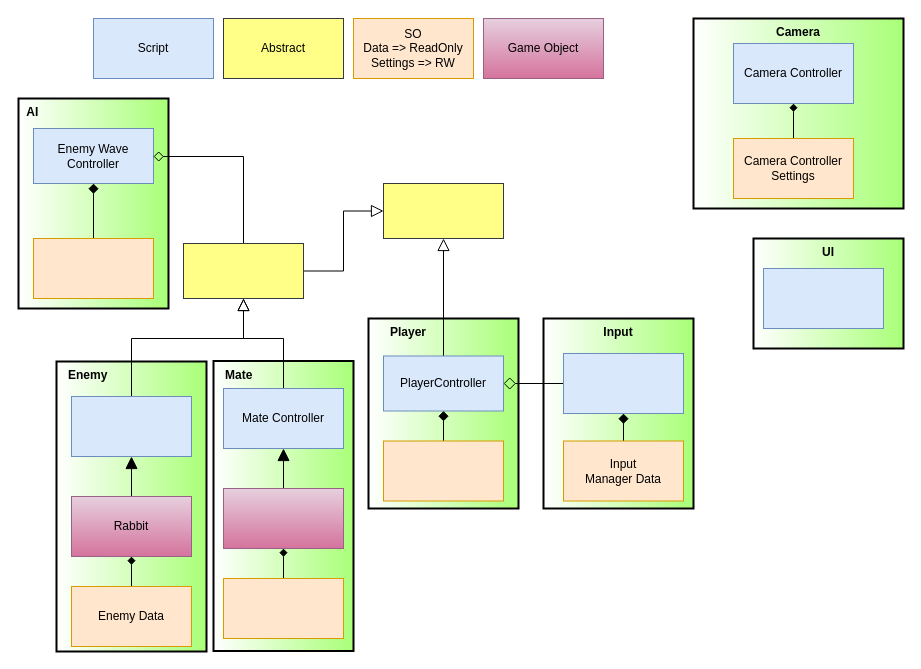
This 921x669 diagram has some shape labels left out. The shapes that lost their labels are listed below. From the top down, each one's box as (x1, y1, x2, y2) in pixels, then its label:
(382, 182, 504, 238): Model
(32, 238, 154, 298): Wave Data
(182, 242, 304, 298): NPC
(762, 268, 884, 328): ScoreUI
(562, 352, 684, 414): InputManager
(70, 396, 192, 456): Enemy Controller
(382, 440, 504, 501): Player Data
(222, 488, 344, 548): Hedgehog
(222, 578, 344, 638): Mate Data
